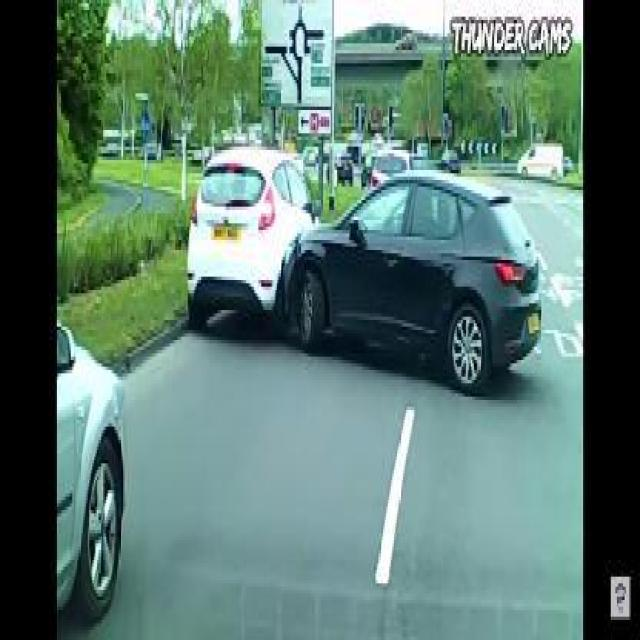accident: (183, 140, 545, 397)
